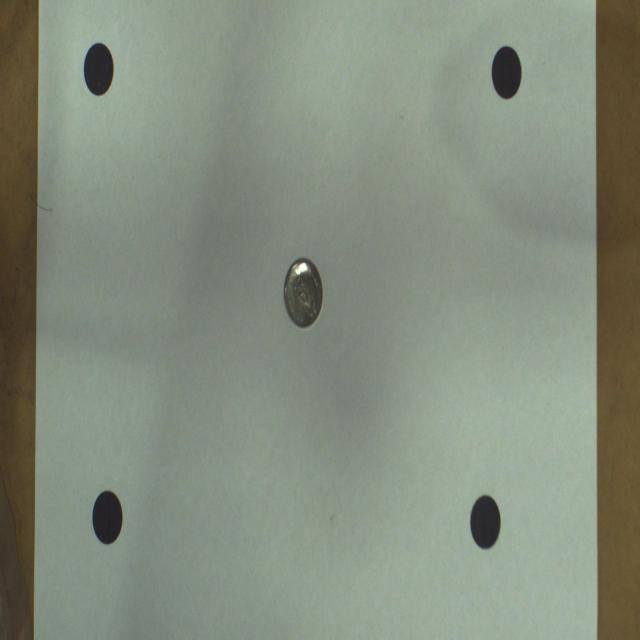space: (470, 496, 501, 549), (84, 42, 114, 96), (92, 491, 122, 544), (491, 47, 521, 100)
tail1bath: (284, 258, 322, 327)
